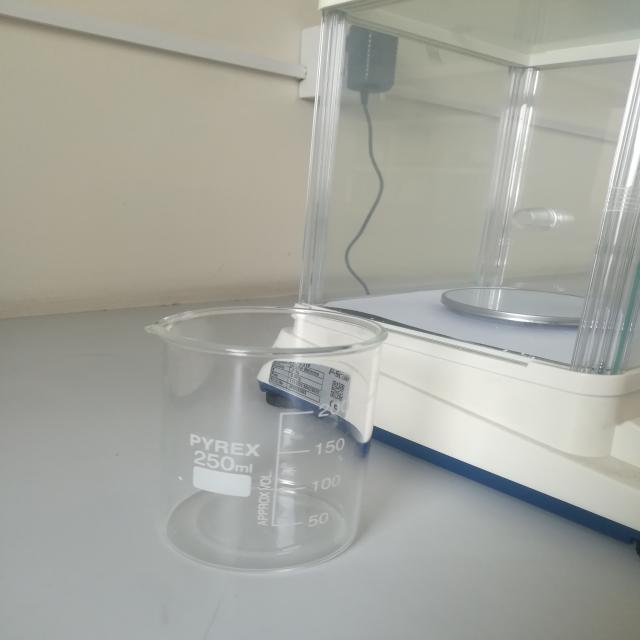Beaker: (110, 273, 440, 603)
